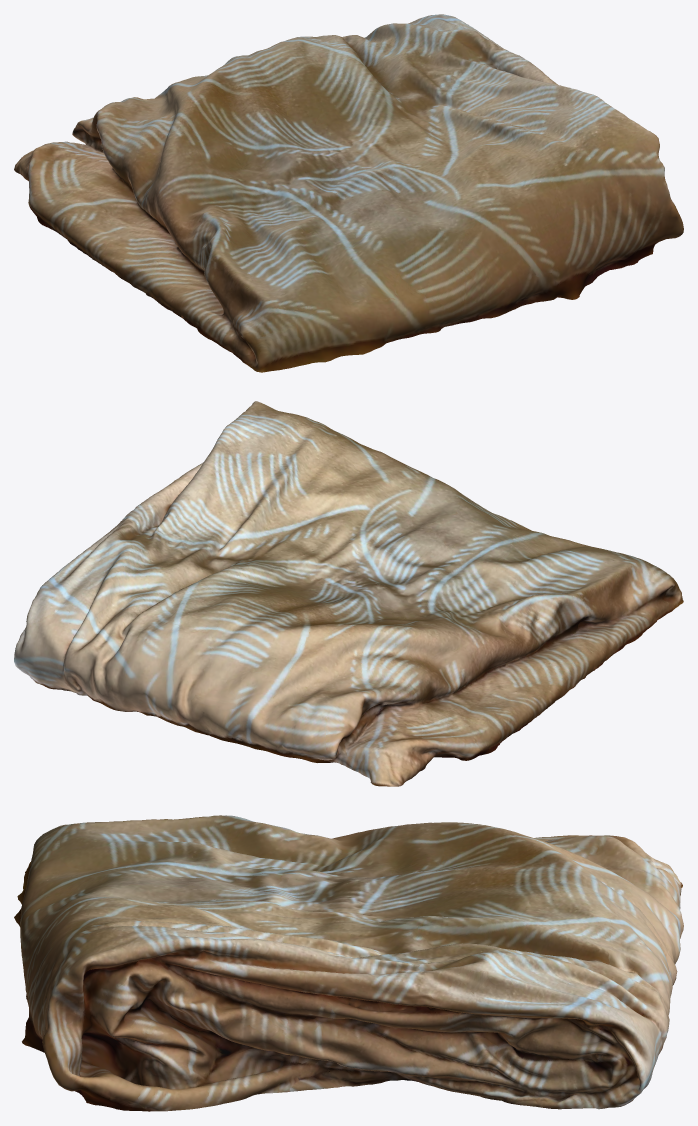
Rendered from brocade-folded-fabric-scan.glb.
The picture shows the model from 3 angles, top to bottom: view 1: azimuth 30°, elevation 25°; view 2: azimuth 150°, elevation 25°; view 3: azimuth 270°, elevation 25°; orthographic projection. The views are drawn at different scales.
Parts seen in each view (by area): view 1: dress; view 2: dress; view 3: dress.
Part boxes in pixels (<box>): dress: <box>14,14,683,372</box>; dress: <box>14,401,683,786</box>; dress: <box>14,815,683,1111</box>.
Bounding box in the file's own units: 0.3239 × 0.0901 × 0.3527.
1 material, 1 textured.
